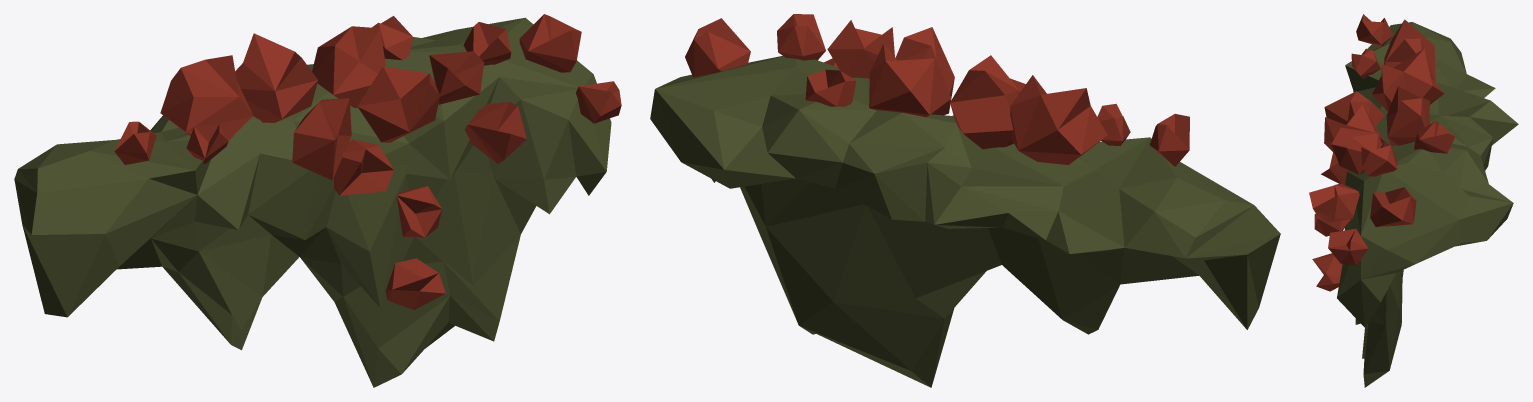
File: SM_Prop_FlowerHanging_02.glb
The picture shows the model from 3 angles, left to right: view 1: azimuth 30°, elevation 25°; view 2: azimuth 150°, elevation 25°; view 3: azimuth 270°, elevation 25°; orthographic projection. The views are drawn at different scales.
Parts seen in each view (by area): view 1: SM_Prop_FlowerHanging_02; view 2: SM_Prop_FlowerHanging_02; view 3: SM_Prop_FlowerHanging_02.
Part boxes in pixels (x1,y1,x2,y2): SM_Prop_FlowerHanging_02: [14, 14, 621, 387]; SM_Prop_FlowerHanging_02: [650, 14, 1280, 387]; SM_Prop_FlowerHanging_02: [1309, 14, 1518, 387].
Bounding box in the file's own units: 0.0125 × 0.00734 × 0.00504.
